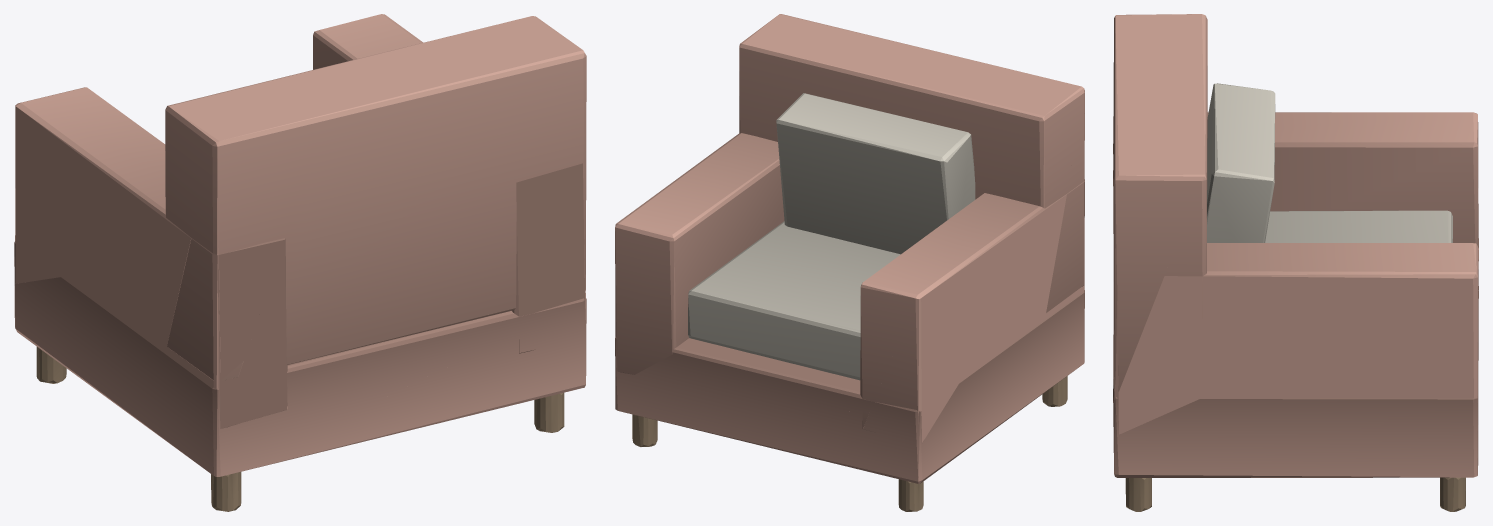
The model's file is furn_armchair__coral_low.glb.
The picture shows the model from 3 angles, left to right: view 1: azimuth 30°, elevation 25°; view 2: azimuth 150°, elevation 25°; view 3: azimuth 270°, elevation 25°; orthographic projection. The views are drawn at different scales.
Bounding box in the file's own units: 0.9 × 0.8786 × 0.85.
